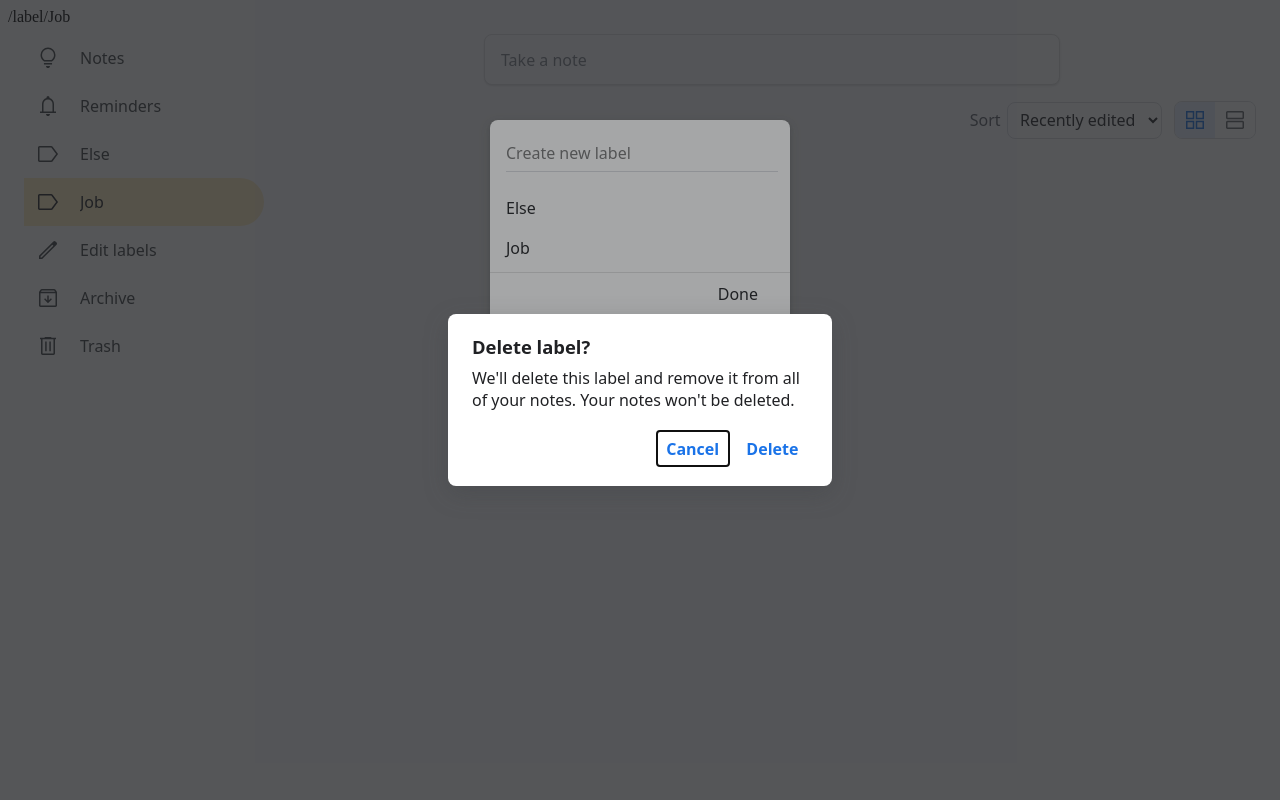
Test: view routes › updates the URL when the open label is renamed, and deleting it returns home
The width and height of the screenshot is (1280, 800).
Earlier steps of the test are not shown.
Click the button "Delete": (772, 448) [737,431,808,466]
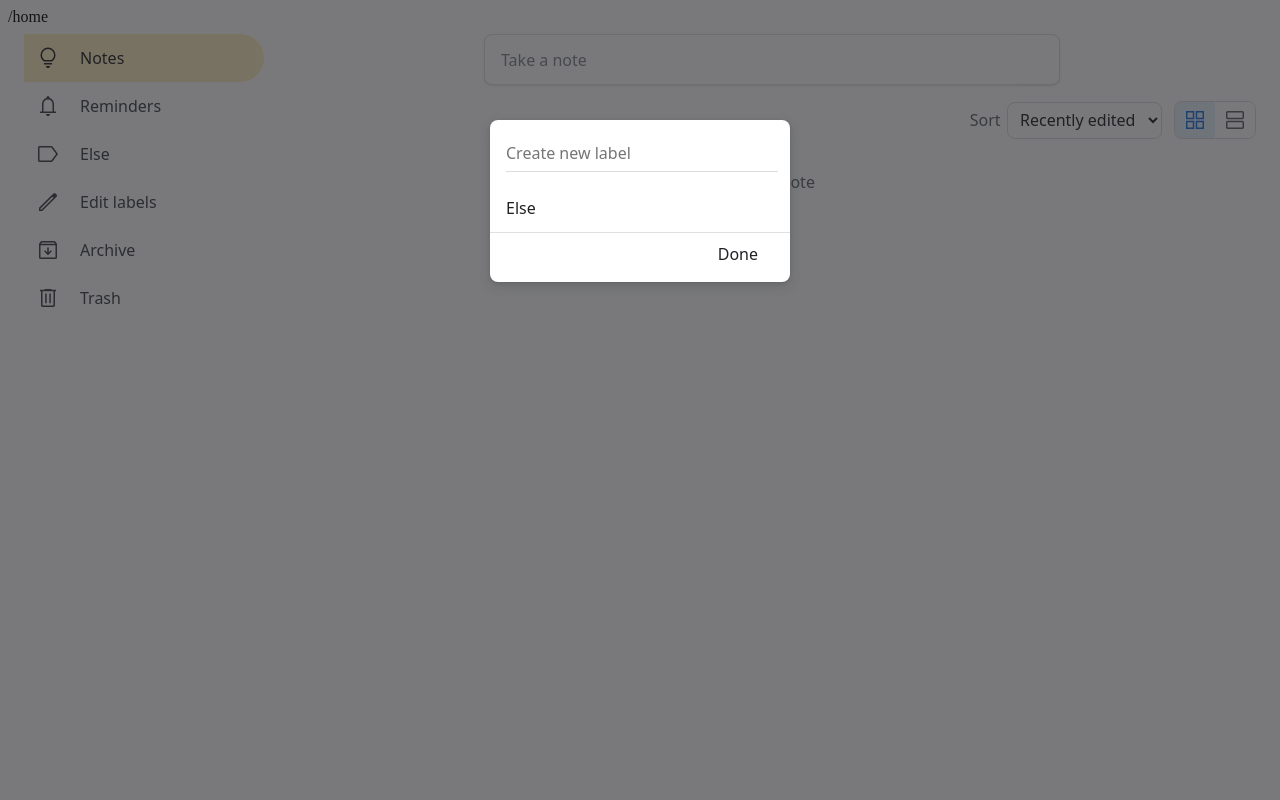
Expected: the text with test id "path" reads "/home", [8,8,48,25]
Expected: the text "Job" is gone
